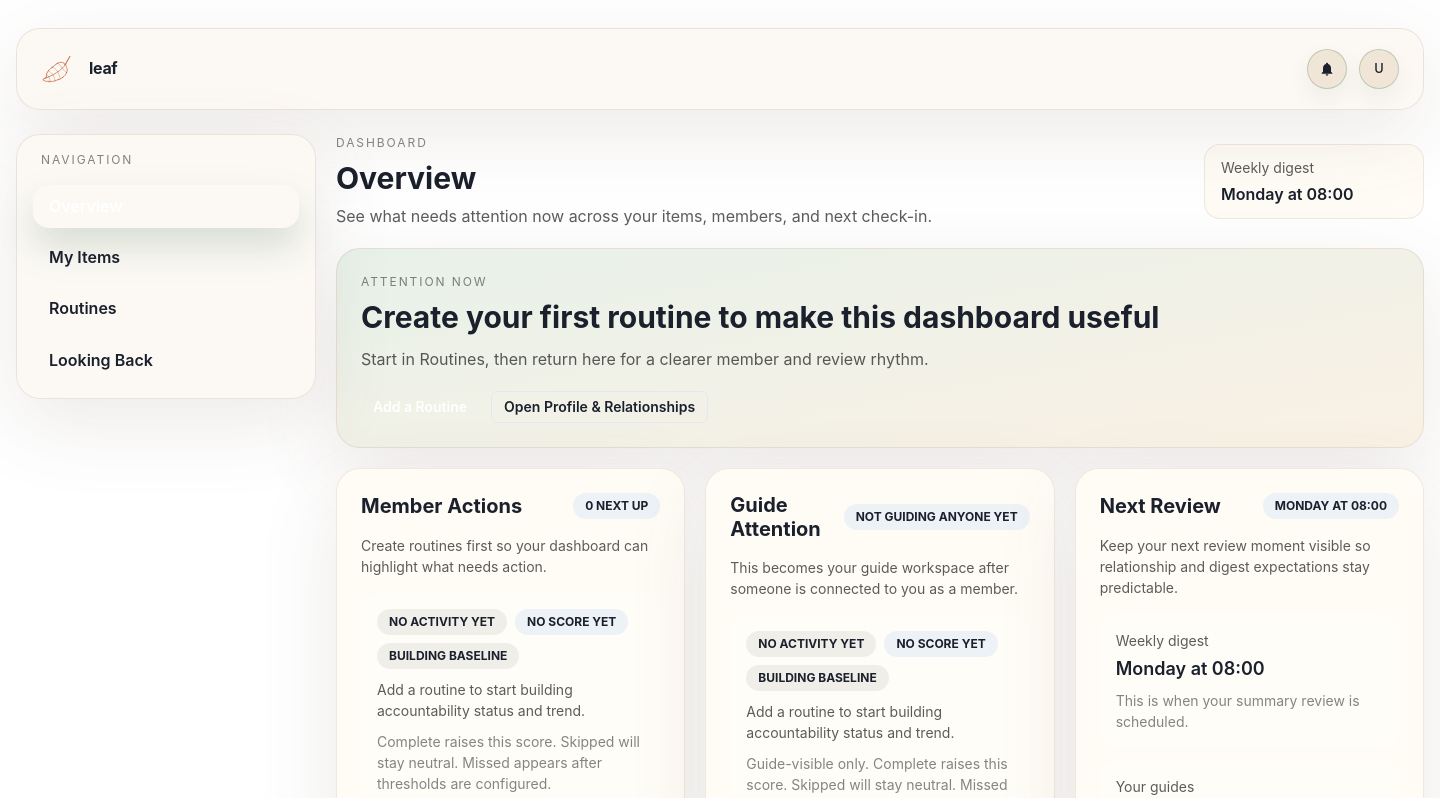
App routes › shows admin entry in the user menu only for admins
Click the button named "Open account menu". click: (1379, 69)
box: [1359,49,1399,89]
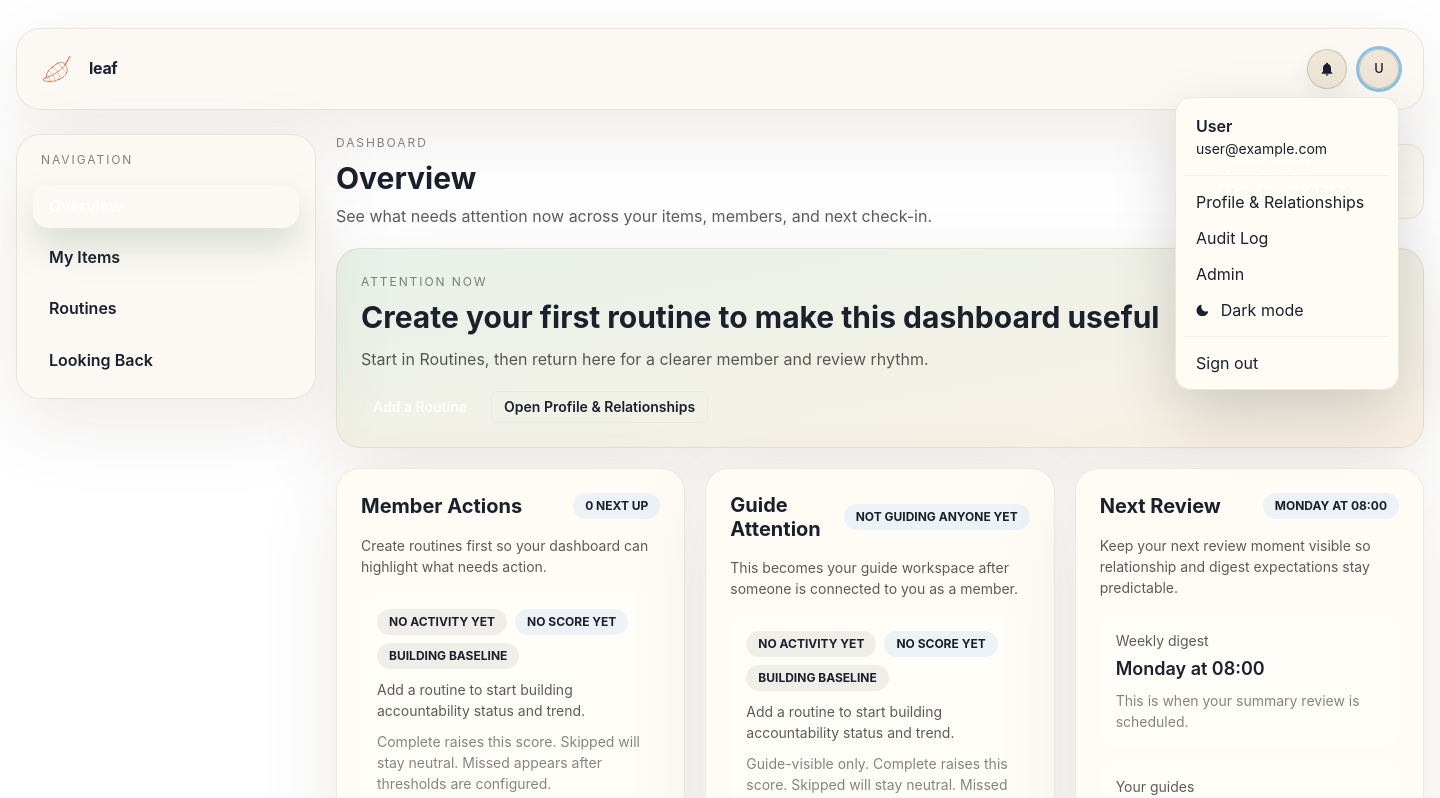
Expected: the menu item "Admin" is shown, [1196,264,1244,284]
